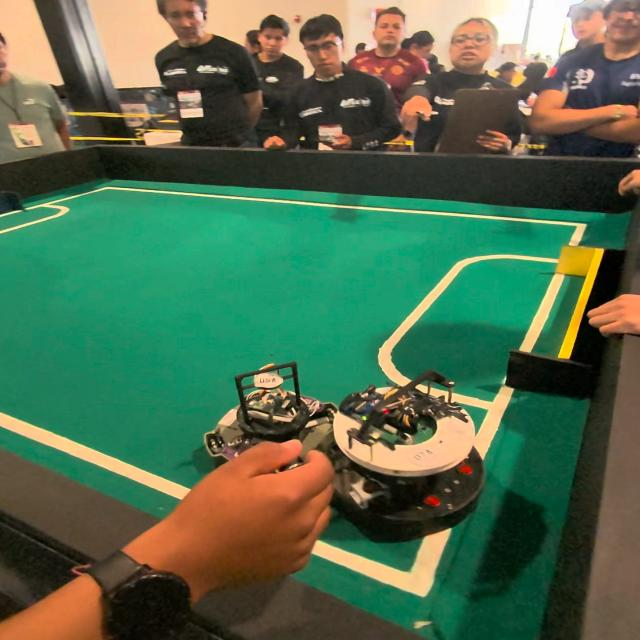Robot: (332, 368, 484, 554), (177, 354, 338, 521)
